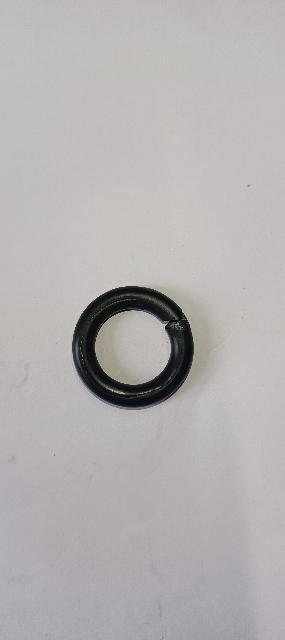crack: (159, 306, 193, 338)
scratch: (76, 294, 144, 377), (107, 341, 190, 403)
